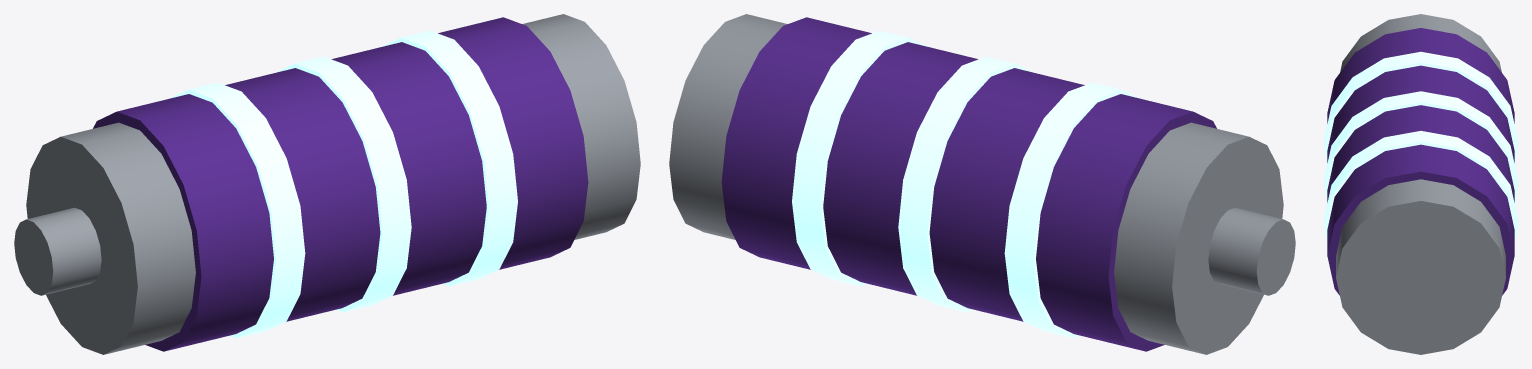
File: item.ammunition.synapse_surge.glb
3 views of the same model, side by side, from view 1: azimuth 30°, elevation 25°; view 2: azimuth 150°, elevation 25°; view 3: azimuth 270°, elevation 25° (orthographic). The views are drawn at different scales.
Visible parts, largest first — view 1: _MeshInstance3D_38, _MeshInstance3D_42, _MeshInstance3D_43, _MeshInstance3D_41, _MeshInstance3D_39, _MeshInstance3D_40, _MeshInstance3D_44; view 2: _MeshInstance3D_38, _MeshInstance3D_42, _MeshInstance3D_43, _MeshInstance3D_41, _MeshInstance3D_39, _MeshInstance3D_40, _MeshInstance3D_44; view 3: _MeshInstance3D_43, _MeshInstance3D_38, _MeshInstance3D_40, _MeshInstance3D_39, _MeshInstance3D_41, _MeshInstance3D_42.
Boxes of the visible parts, <box> form: _MeshInstance3D_38: <box>93,17,588,351</box>; _MeshInstance3D_42: <box>26,122,195,354</box>; _MeshInstance3D_43: <box>522,14,640,239</box>; _MeshInstance3D_41: <box>170,82,305,338</box>; _MeshInstance3D_39: <box>382,30,517,286</box>; _MeshInstance3D_40: <box>276,56,411,312</box>; _MeshInstance3D_44: <box>14,207,101,295</box>; _MeshInstance3D_38: <box>721,17,1216,351</box>; _MeshInstance3D_42: <box>1114,122,1283,354</box>; _MeshInstance3D_43: <box>669,14,787,239</box>; _MeshInstance3D_41: <box>1004,82,1139,338</box>; _MeshInstance3D_39: <box>792,30,927,286</box>; _MeshInstance3D_40: <box>898,56,1033,312</box>; _MeshInstance3D_44: <box>1208,207,1295,295</box>; _MeshInstance3D_43: <box>1336,179,1505,354</box>; _MeshInstance3D_38: <box>1327,28,1514,295</box>; _MeshInstance3D_40: <box>1324,91,1517,203</box>; _MeshInstance3D_39: <box>1324,131,1517,243</box>; _MeshInstance3D_41: <box>1324,51,1517,164</box>; _MeshInstance3D_42: <box>1340,14,1501,72</box>.
Size of the model in its own units: 1.2 by 0.48 by 0.48.
